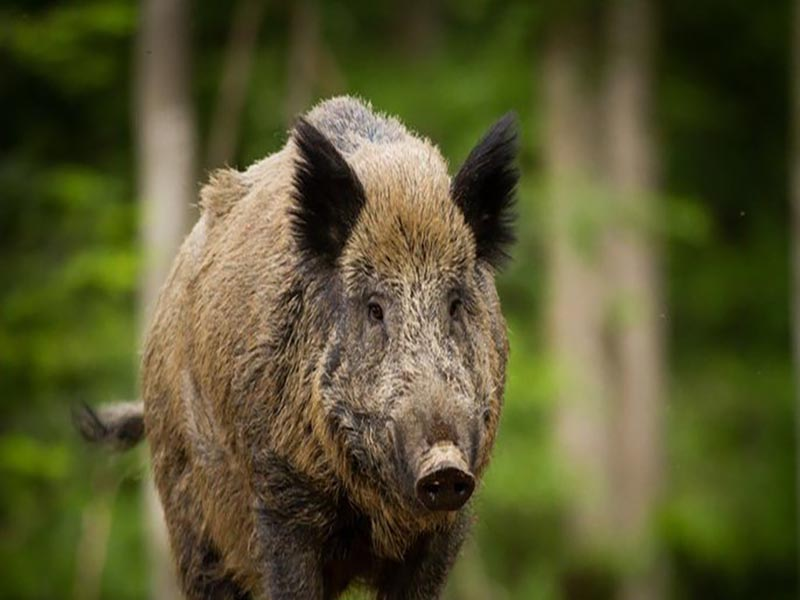cinghiale: (134, 75, 519, 600)
